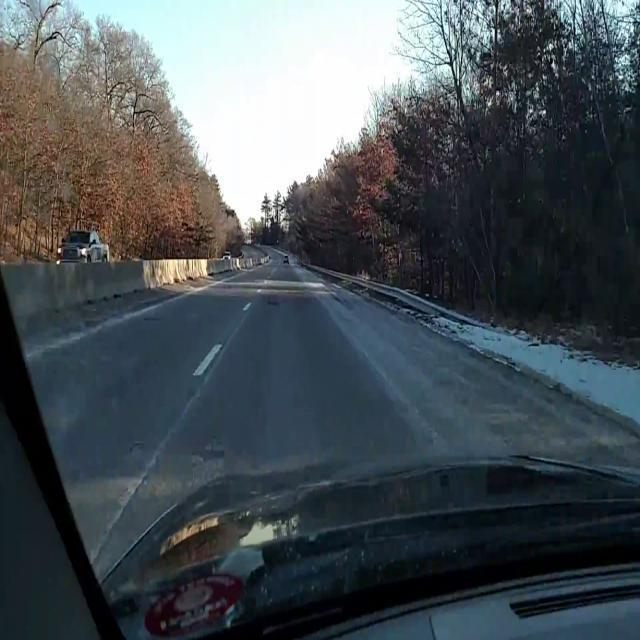pothole: (266, 301, 278, 306)
